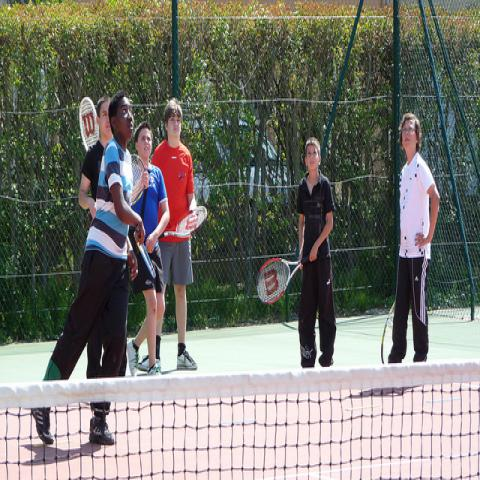car: (182, 116, 289, 208)
